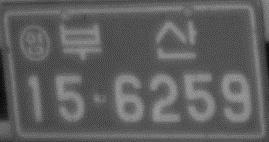-: (90, 91, 110, 106)
1: (24, 73, 47, 123)
2: (149, 71, 184, 123)
5: (183, 71, 216, 123), (53, 73, 87, 123)
6: (113, 71, 147, 124)
9: (218, 71, 254, 123)
부산_D: (57, 18, 197, 63)
영: (19, 23, 51, 64)
